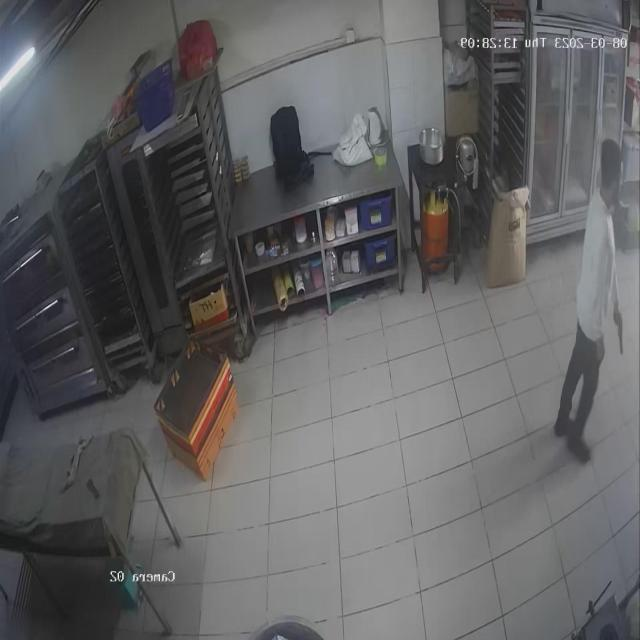Gun: (606, 303, 635, 364)
